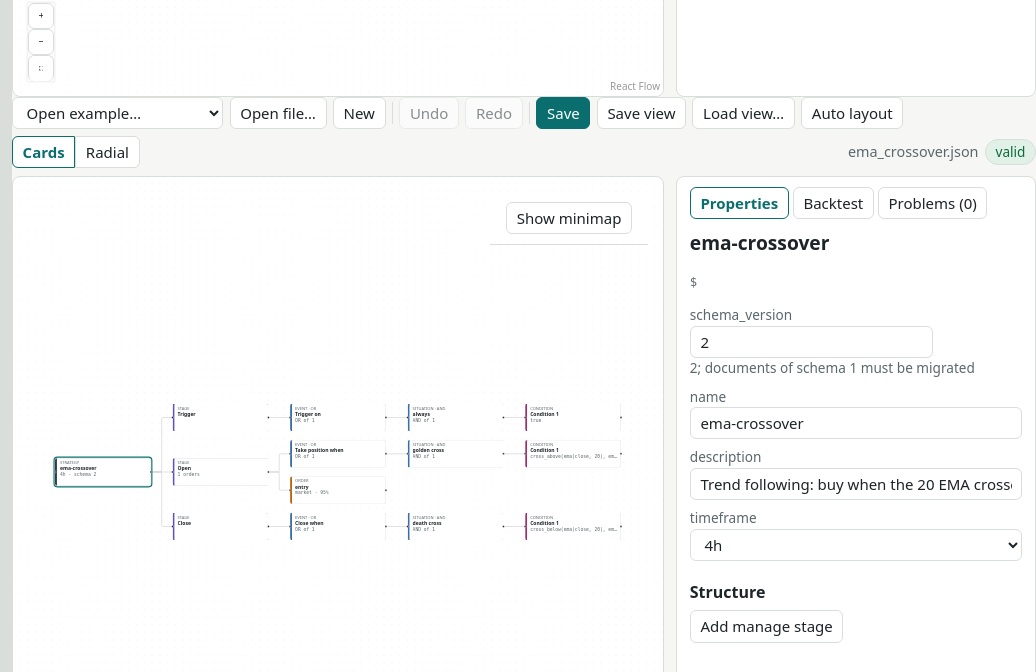
it: designer page › the context menu offers only what the schema allows, and adds a node
(page scrolled)
Right-click the element with class "react-flow__node" that starts with "event · OR" at [338, 454], box [290, 440, 386, 468]
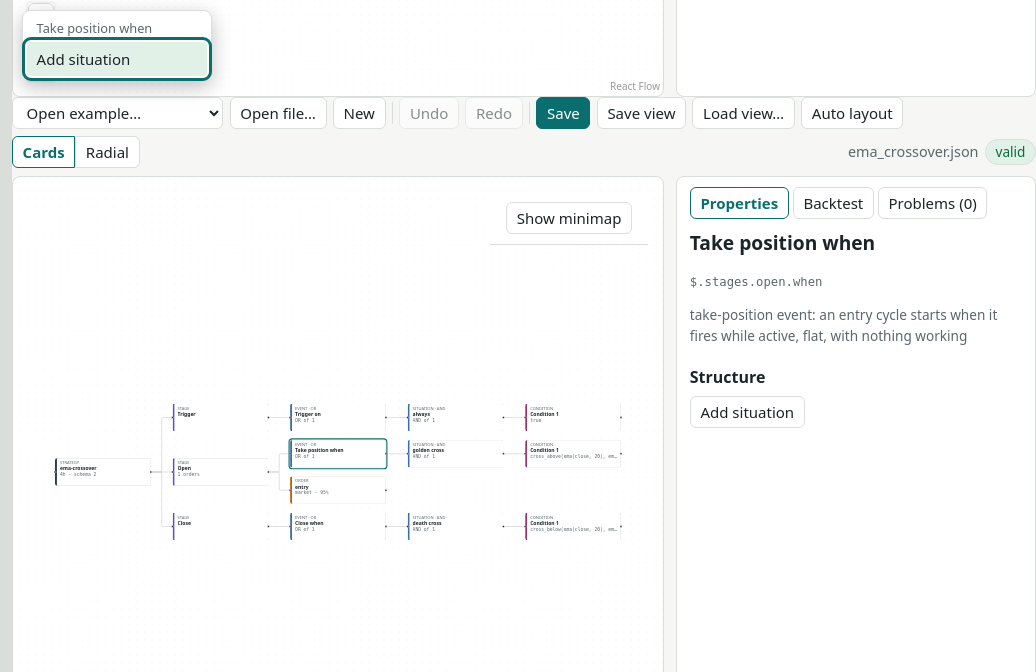
Click the menu item "Add situation" at [117, 59], box [27, 42, 207, 76]
(page scrolled)
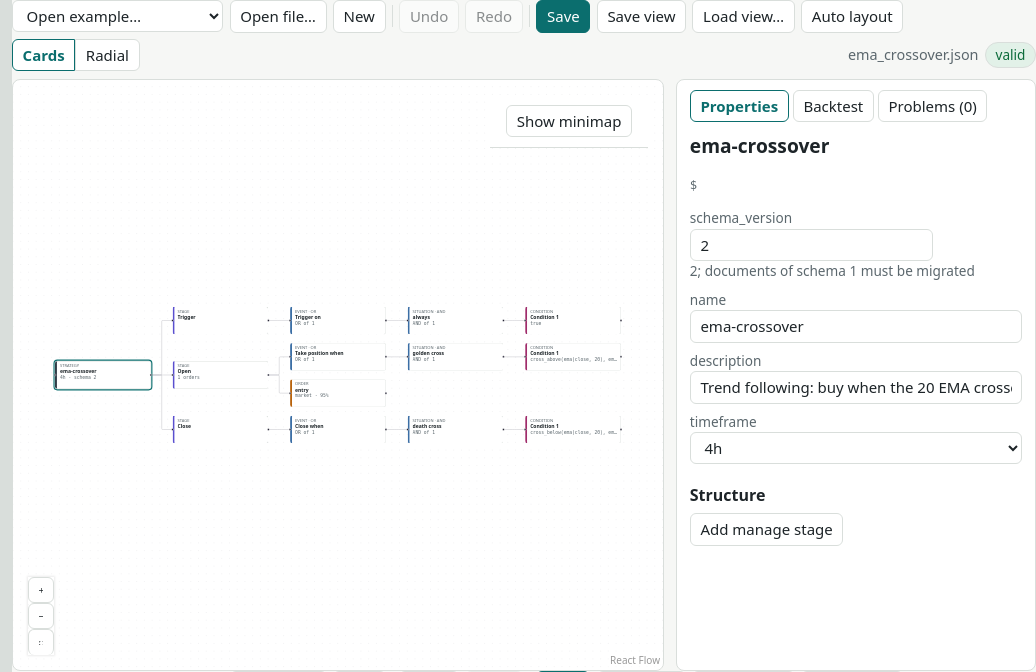
expect the 1st text with class "badge" reads "valid": met, box [996, 45, 1025, 64]
expect the menu is gone: met
